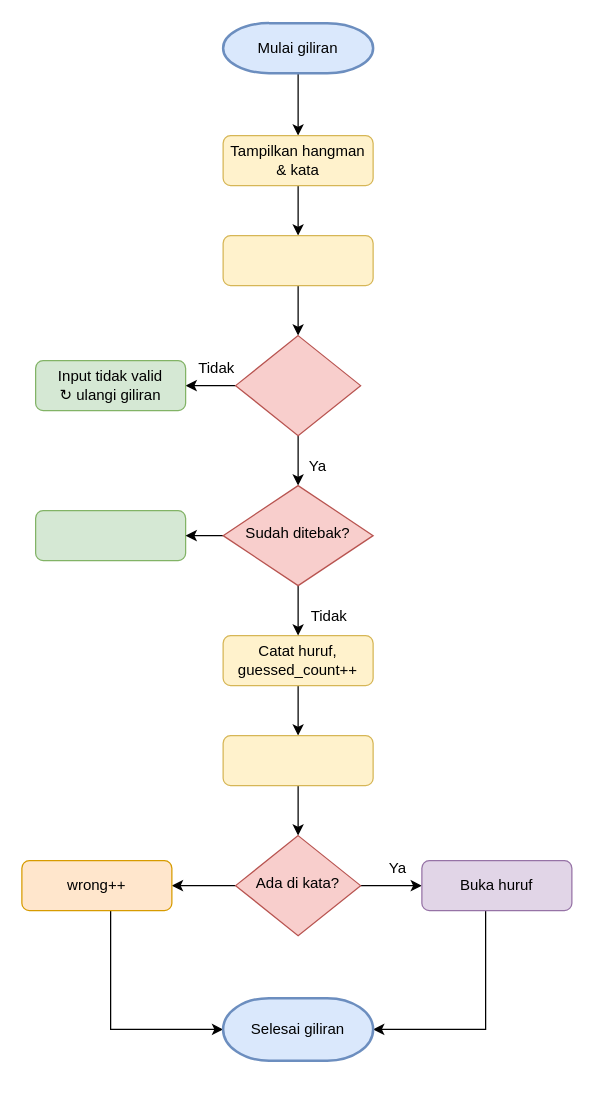
The diagram is 594 pixels wide and 1093 high, and some of its shapes have lost their labels. Here are the shapes that lost their labels. From the top down, the box of each, then its label:
(222, 234, 373, 286): Baca huruf, toupper()
(234, 334, 361, 436): Huruf valid?
(34, 509, 186, 561): Sudah pernah ditebak ↻ ulangi giliran
(222, 734, 373, 786): process_guess(&g, letter)
